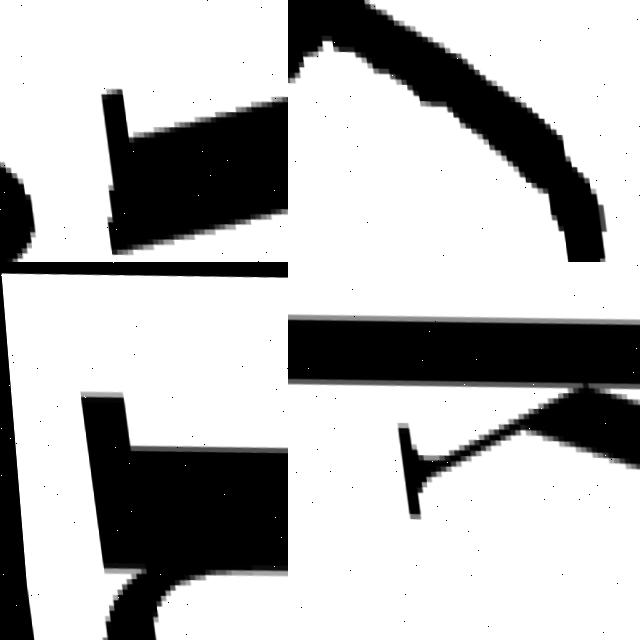I: (0, 44, 288, 262)
K: (288, 262, 640, 566)
P: (79, 390, 288, 640)
X: (288, 0, 640, 262)
